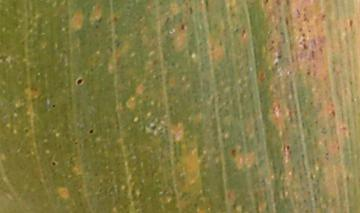tarspot: (74, 75, 85, 86), (347, 18, 355, 32), (202, 1, 211, 12), (187, 5, 194, 17), (87, 127, 96, 135), (230, 148, 237, 158), (285, 143, 292, 151), (179, 23, 186, 30), (262, 1, 269, 8), (23, 126, 29, 134), (50, 103, 56, 109), (51, 160, 57, 166)
